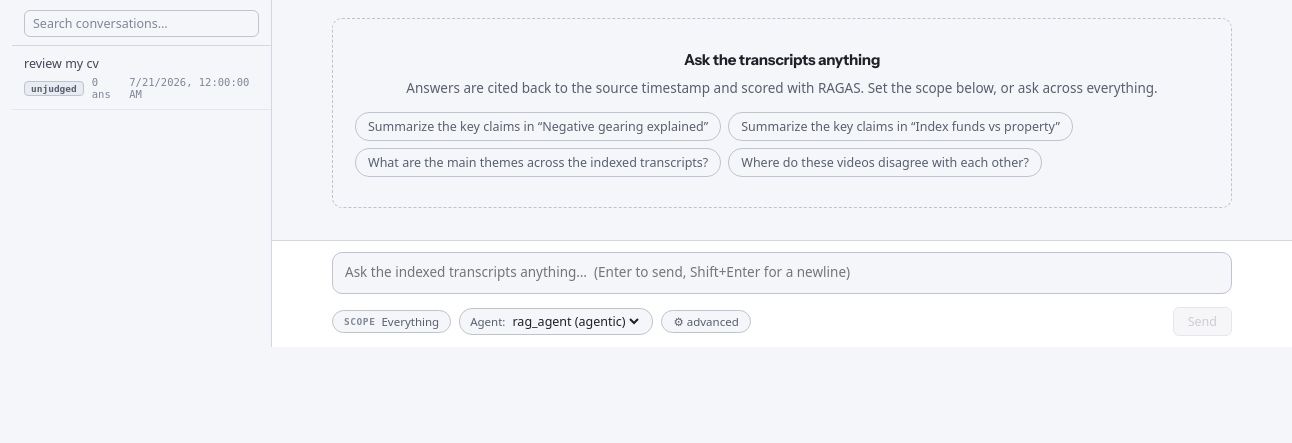
Scenario: ChatView document follow-up › recombines the reloaded page with how much of it this question read
Click the button "review my cv" at (142, 78), box [12,46,271,110]
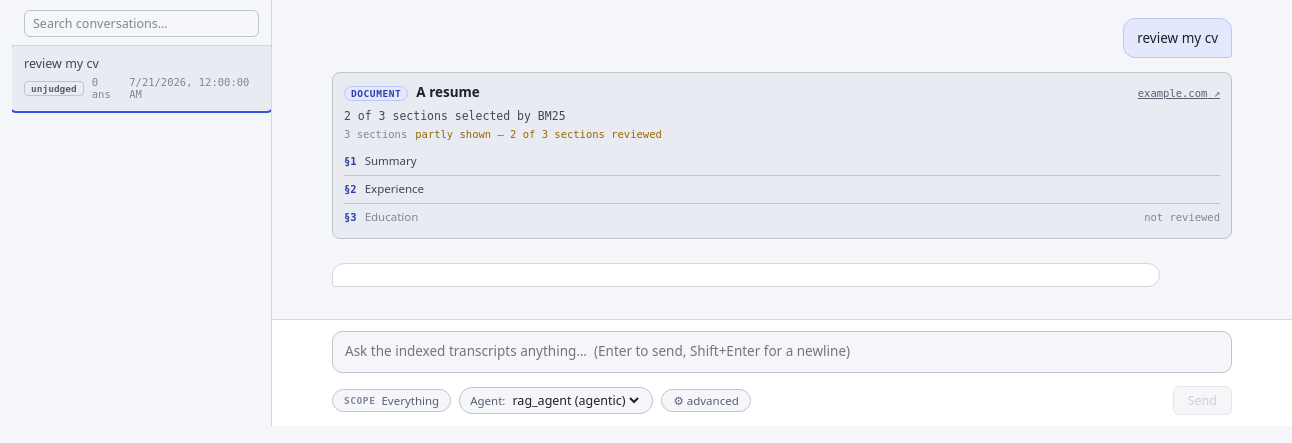
Check: the text "2 of 3 sections selected by BM25" is shown, box [344,108,566,122]
Check: the text "not reviewed" is shown, box [1144,210,1220,222]
